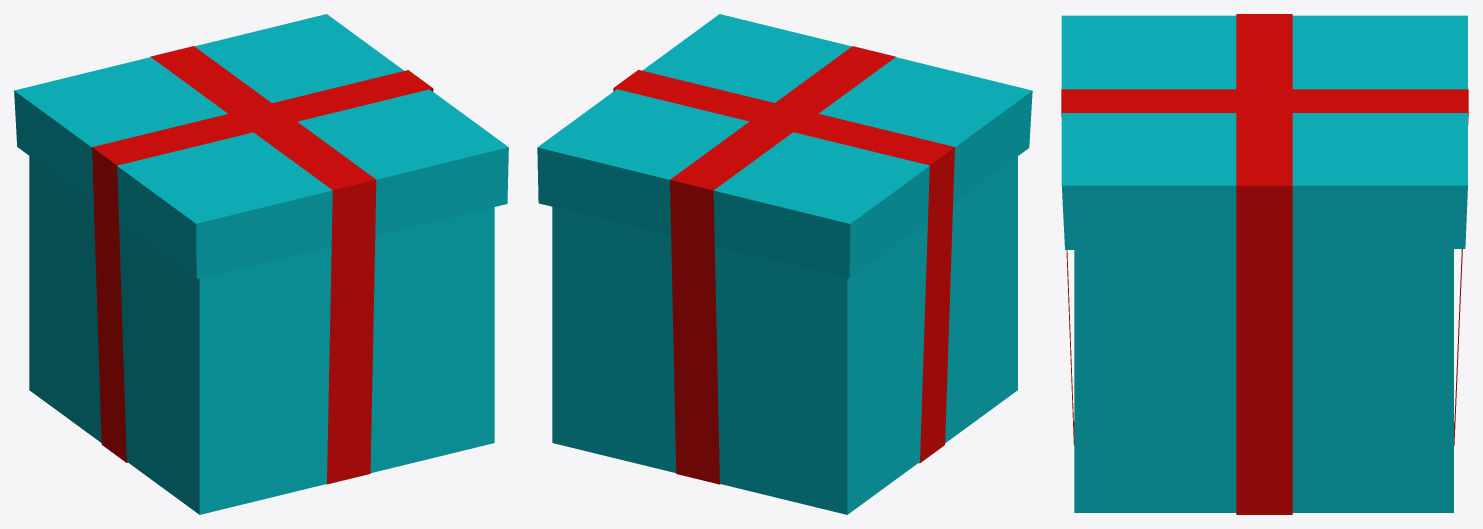
File: Present (Turquoise).fbx
3 views of the same model, side by side, from view 1: azimuth 30°, elevation 25°; view 2: azimuth 150°, elevation 25°; view 3: azimuth 270°, elevation 25° (orthographic). The views are drawn at different scales.
Parts seen in each view (by area): view 1: Cube, Ribbon; view 2: Cube, Ribbon; view 3: Cube, Ribbon.
Part boxes in pixels (left/top/right/bottom): Cube: left=14, top=14, right=508, bottom=514; Ribbon: left=92, top=46, right=433, bottom=484; Cube: left=537, top=14, right=1032, bottom=514; Ribbon: left=613, top=46, right=954, bottom=484; Cube: left=1061, top=15, right=1467, bottom=512; Ribbon: left=1061, top=14, right=1468, bottom=514.
Bounding box in the file's own units: 214 × 195 × 214.
